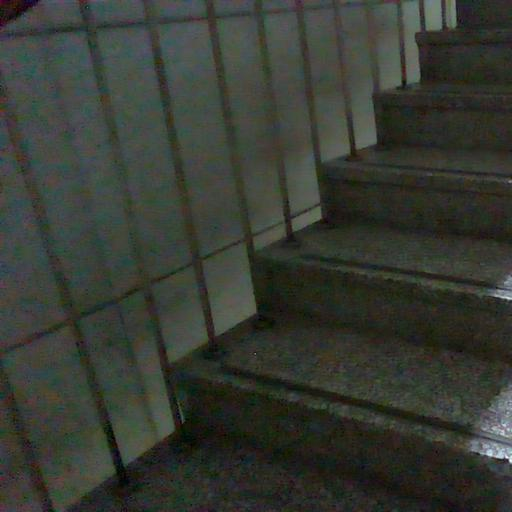stairs: (181, 0, 511, 511)
